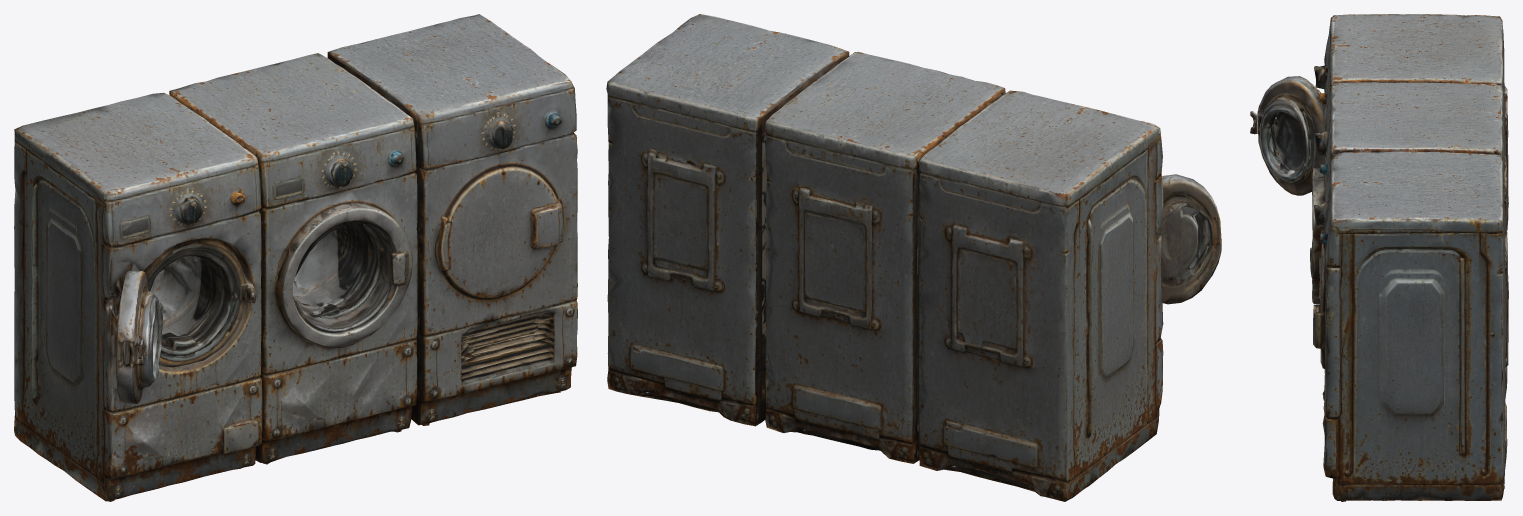
Rendered from BKI_Laundry.fbx.
3 renders of one model, left to right at view 1: azimuth 30°, elevation 25°; view 2: azimuth 150°, elevation 25°; view 3: azimuth 270°, elevation 25°, orthographic. The views are drawn at different scales.
Parts seen in each view (by area): view 1: texture_mapping; view 2: texture_mapping; view 3: texture_mapping.
Boxes of the visible parts, x1,y1,x2,y2 form: texture_mapping: (14,14,577,501); texture_mapping: (606,14,1221,501); texture_mapping: (1250,14,1508,501).
Bounding box in the file's own units: 0.9996 × 0.4998 × 0.6127.
1 material, 1 textured.
